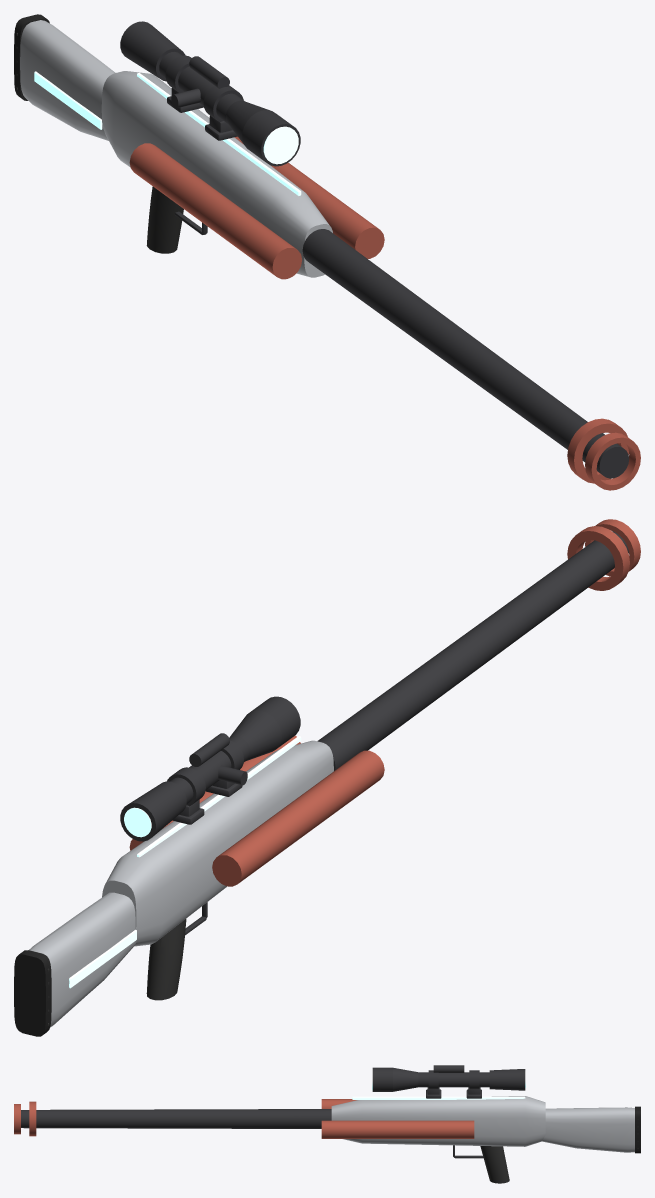
Rendered from monster.glb.
The picture shows the model from 3 angles, top to bottom: view 1: azimuth 30°, elevation 25°; view 2: azimuth 150°, elevation 25°; view 3: azimuth 270°, elevation 25°; orthographic projection. The views are drawn at different scales.
Parts seen in each view (by area): view 1: Body; view 2: Body; view 3: Body.
Part boxes in pixels (x1=…): Body: x1=14, y1=14, x2=640, y2=490; Body: x1=14, y1=519, x2=640, y2=1036; Body: x1=14, y1=1065, x2=640, y2=1183.
Bounding box in the file's own units: 0.136 × 0.2484 × 1.23.
